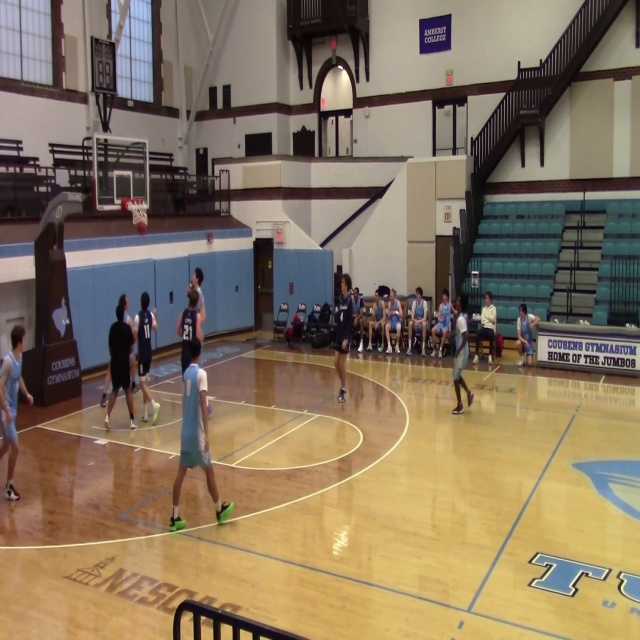Basketball: (121, 197, 131, 212), (187, 290, 199, 302), (137, 220, 148, 233), (205, 405, 212, 418)
